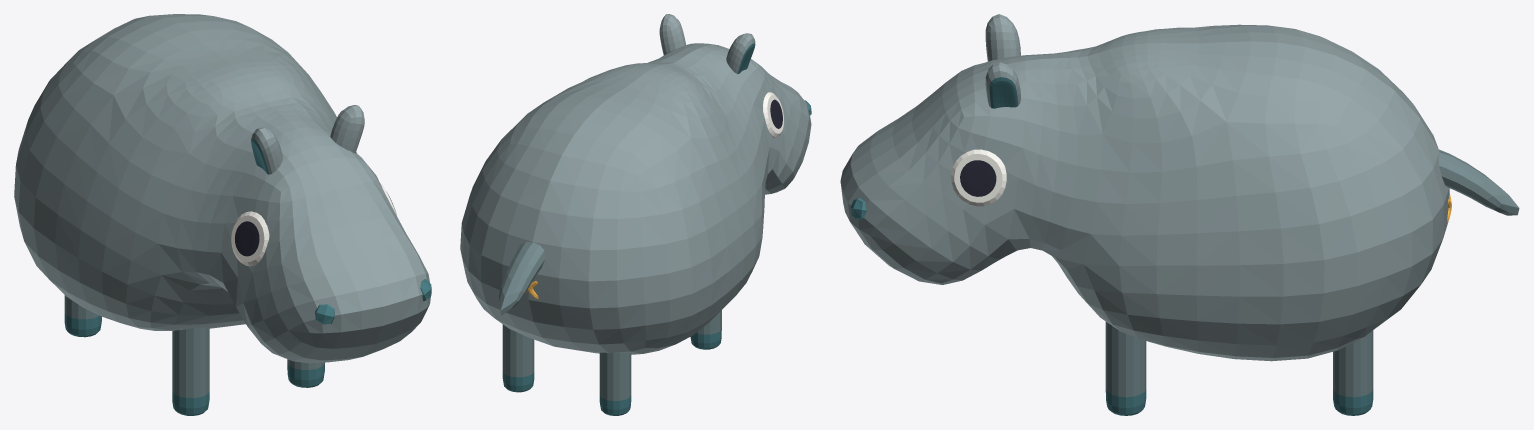
The model's file is Hippo_LOD0.fbx.
3 views of the same model, side by side, from view 1: azimuth 30°, elevation 25°; view 2: azimuth 150°, elevation 25°; view 3: azimuth 270°, elevation 25° (orthographic). The views are drawn at different scales.
Visible parts, largest first — view 1: Mesh; view 2: Mesh; view 3: Mesh.
Boxes of the visible parts, <box> form: Mesh: <box>14,14,431,415</box>; Mesh: <box>460,14,811,415</box>; Mesh: <box>840,14,1519,415</box>.
Size of the model in its own units: 199 by 219 by 395.
Materials: 1 (1 with a texture image).
